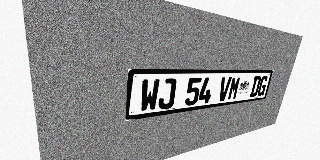4: (198, 77, 214, 104)
5: (184, 78, 202, 106)
D: (249, 76, 262, 97)
G: (257, 76, 269, 96)
J: (158, 78, 177, 110)
M: (227, 77, 241, 100)
V: (217, 77, 232, 102)
W: (139, 79, 160, 112)
